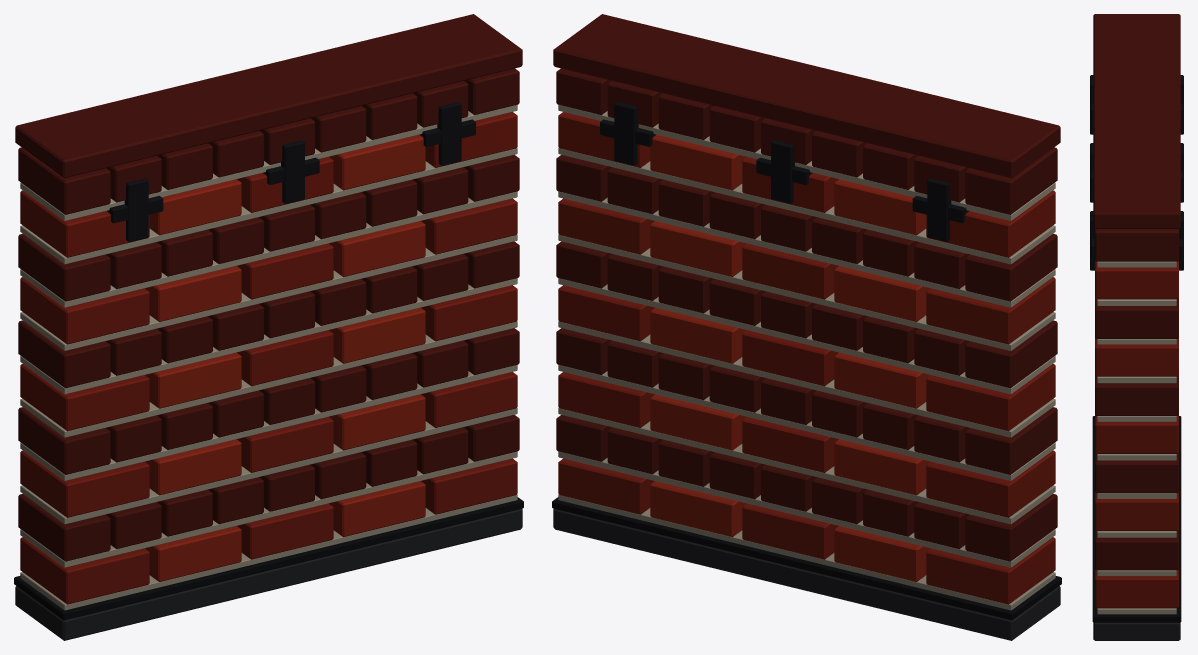
The model's file is mod_english_bond_brick_2x2m.glb.
3 views of the same model, side by side, from view 1: azimuth 30°, elevation 25°; view 2: azimuth 150°, elevation 25°; view 3: azimuth 270°, elevation 25° (orthographic). The views are drawn at different scales.
Parts seen in each view (by area): view 1: Mod_English_Bond_Brick_2x2m; view 2: Mod_English_Bond_Brick_2x2m; view 3: Mod_English_Bond_Brick_2x2m.
Boxes of the visible parts, x1,y1,x2,y2 form: Mod_English_Bond_Brick_2x2m: [14, 14, 523, 640]; Mod_English_Bond_Brick_2x2m: [552, 14, 1061, 640]; Mod_English_Bond_Brick_2x2m: [1090, 14, 1183, 640].
Bounding box in the file's own units: 2 × 2 × 0.396.
